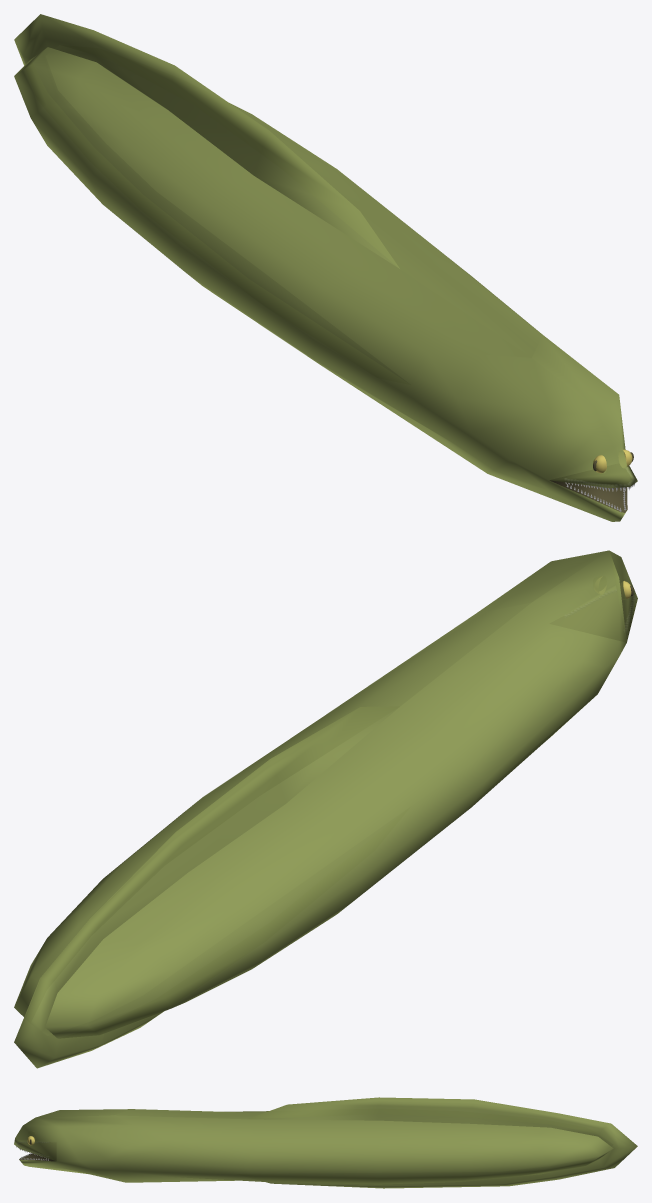
Rendered from Eel.fbx.
The picture shows the model from 3 angles, top to bottom: view 1: azimuth 30°, elevation 25°; view 2: azimuth 150°, elevation 25°; view 3: azimuth 270°, elevation 25°; orthographic projection. The views are drawn at different scales.
Visible parts, largest first — view 1: pCube5; view 2: pCube5; view 3: pCube5.
Part boxes in pixels (x1,y1,x2,y2): pCube5: (14,14,637,521); pCube5: (14,550,637,1068); pCube5: (14,1097,637,1188).
Bounding box in the file's own units: 0.8785 × 0.8223 × 5.11.
